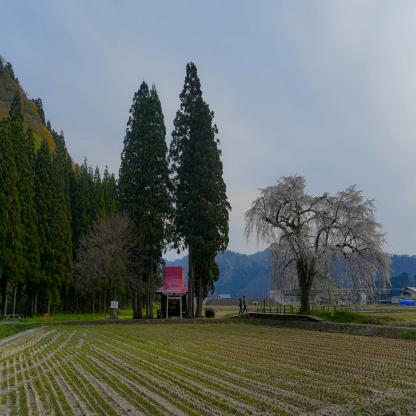ShidareZakura: (244, 174, 393, 315)
